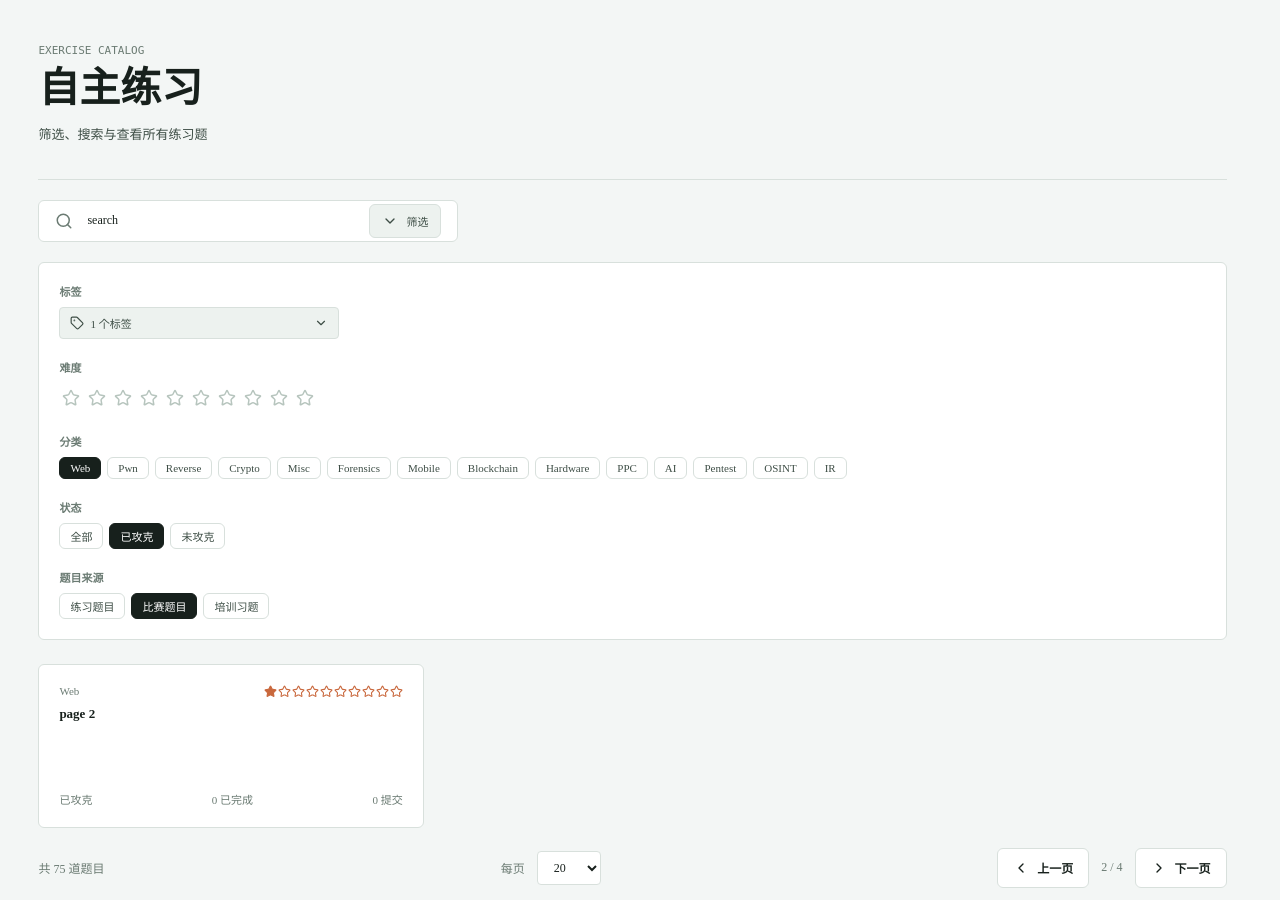
Test: practice catalog pagination › sends all filters before paging, uses total count and requests only the next page
Expected: the text "共 75 道题目" is shown, [38,859,104,877]
Click the button "下一页": click(1181, 868) [1135,848,1227,888]
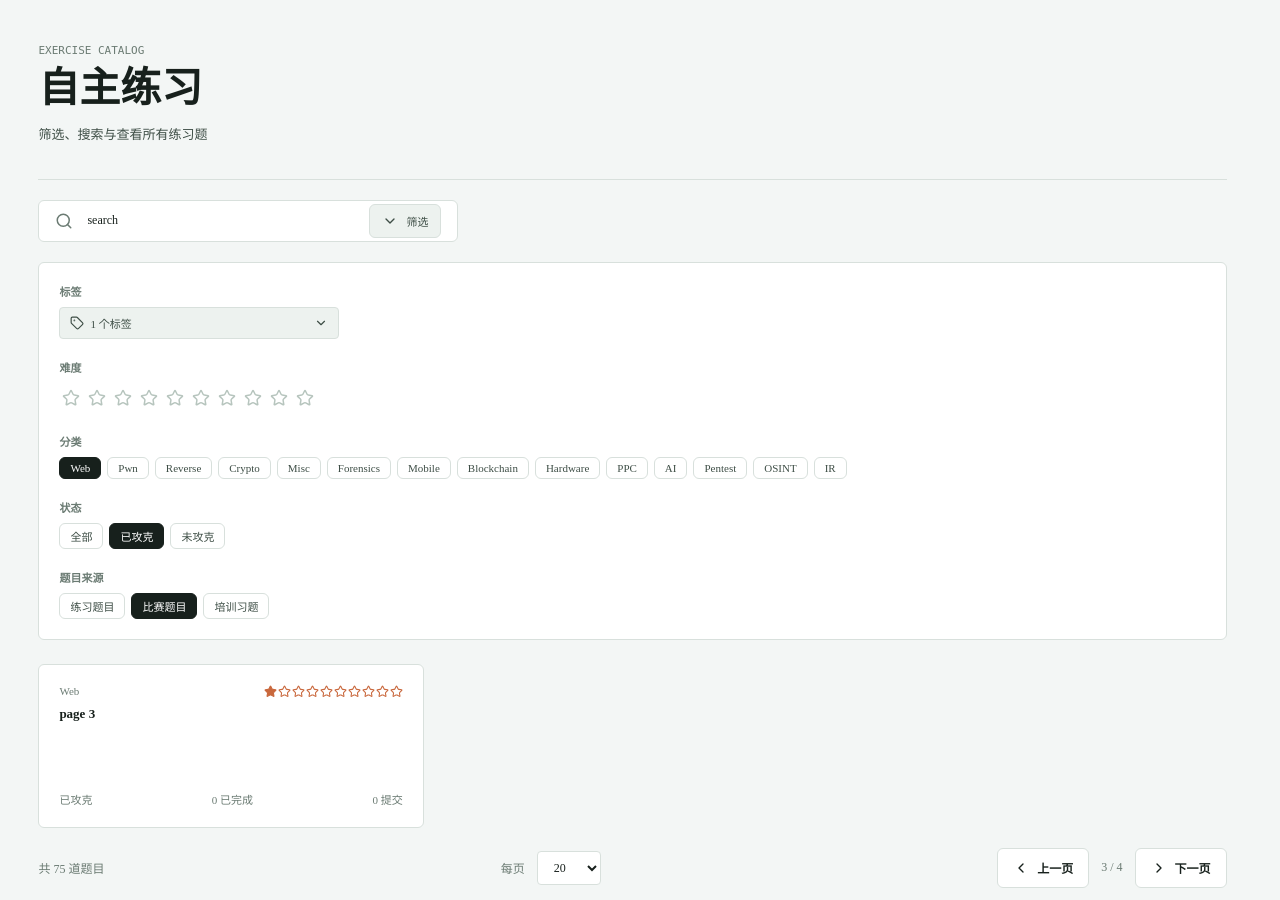
Expected: the link "page 2" is gone
Expected: the heading "page 3" is shown, [59,706,95,721]
